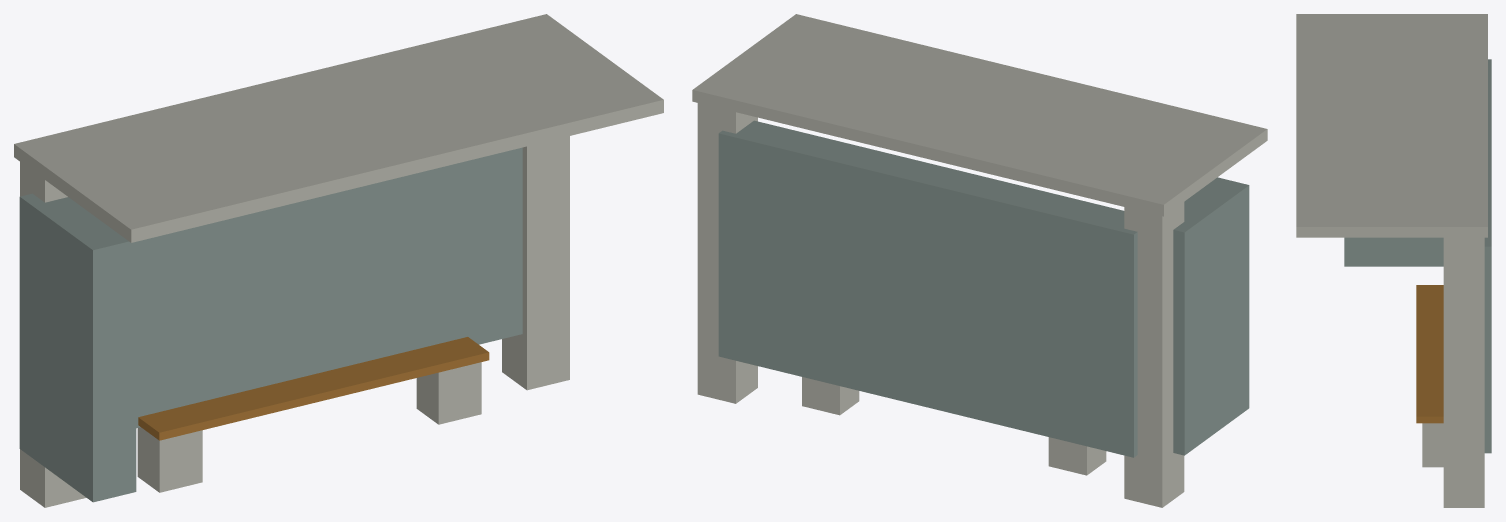
The model's file is SM_ParadaBus_v0_Entera_LOD1.fbx.
3 renders of one model, left to right at view 1: azimuth 30°, elevation 25°; view 2: azimuth 150°, elevation 25°; view 3: azimuth 270°, elevation 25°, orthographic. The views are drawn at different scales.
Parts seen in each view (by area): view 1: SM_urbano_extra_v5_LOD1; view 2: SM_urbano_extra_v5_LOD1; view 3: SM_urbano_extra_v5_LOD1.
Boxes of the visible parts, x1,y1,x2,y2 form: SM_urbano_extra_v5_LOD1: (14, 14, 663, 507); SM_urbano_extra_v5_LOD1: (692, 14, 1267, 507); SM_urbano_extra_v5_LOD1: (1296, 14, 1491, 507).
Bounding box in the file's own units: 4.27 × 2.6 × 1.63.
